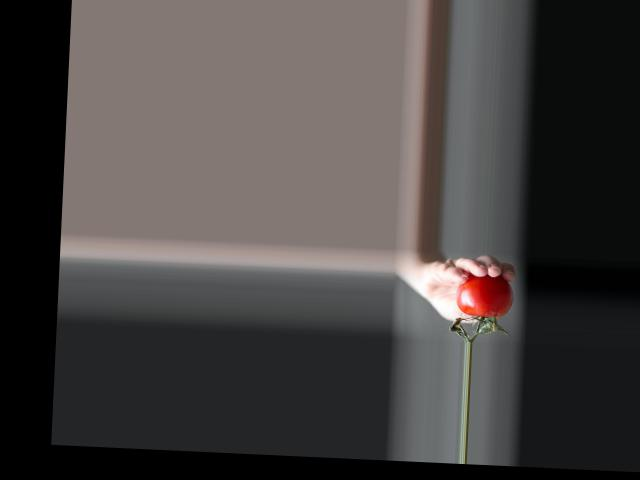tomato: (455, 272, 514, 319)
